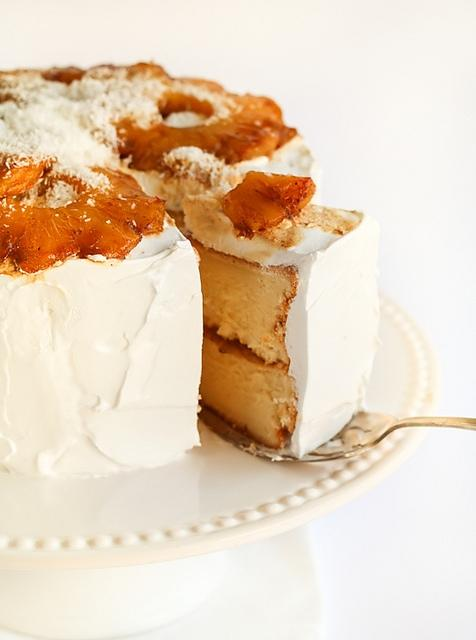pineapple: (220, 170, 316, 242), (65, 202, 142, 260), (207, 120, 277, 161), (120, 60, 166, 80), (41, 66, 86, 84)
